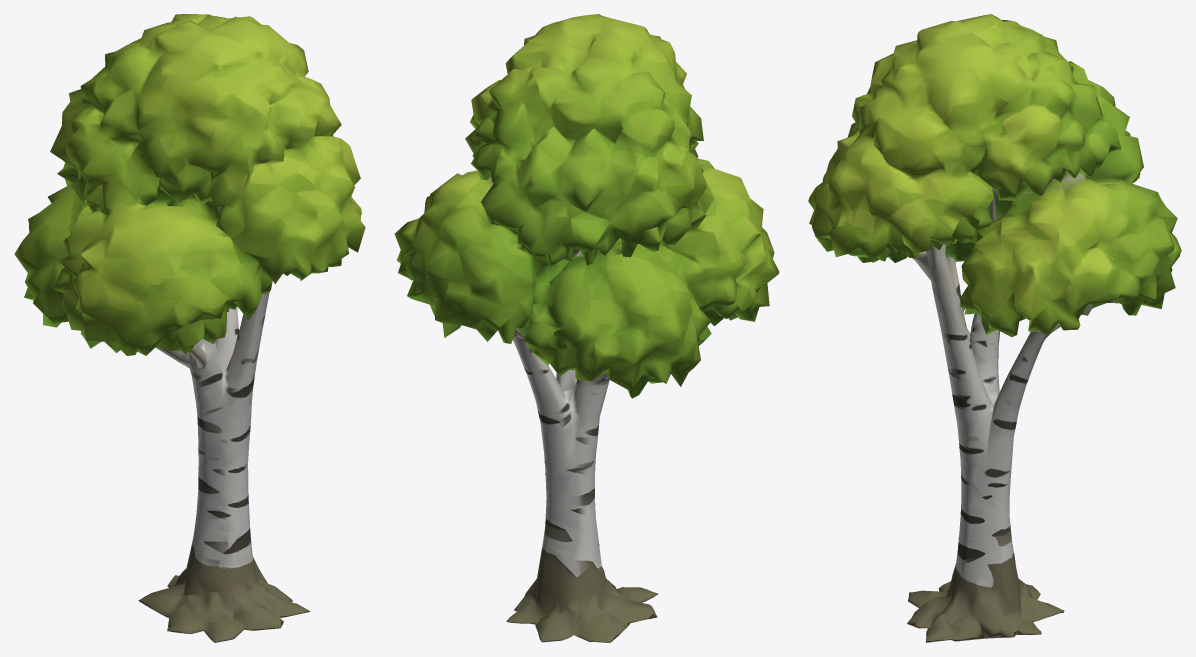
The model's file is aspen_tree.fbx.
3 renders of one model, left to right at view 1: azimuth 30°, elevation 25°; view 2: azimuth 150°, elevation 25°; view 3: azimuth 270°, elevation 25°, orthographic.
Visible parts, largest first — view 1: tripo_node_c2aadcf4; view 2: tripo_node_c2aadcf4; view 3: tripo_node_c2aadcf4.
Part boxes in pixels (bbox=[...]): tripo_node_c2aadcf4: bbox=[14, 14, 365, 642]; tripo_node_c2aadcf4: bbox=[394, 14, 779, 642]; tripo_node_c2aadcf4: bbox=[808, 14, 1181, 642].
Size of the model in its own units: 52.44 by 98.12 by 57.29.
Materials: 1 (1 with a texture image).
